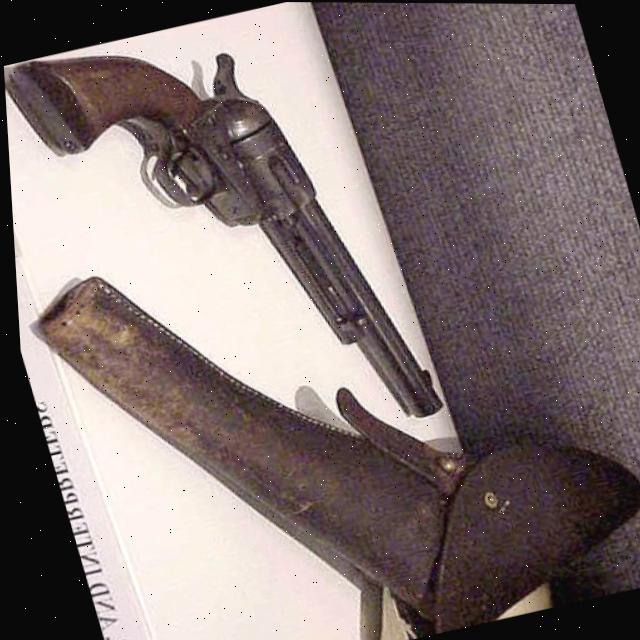pistol: (0, 0, 446, 488)
